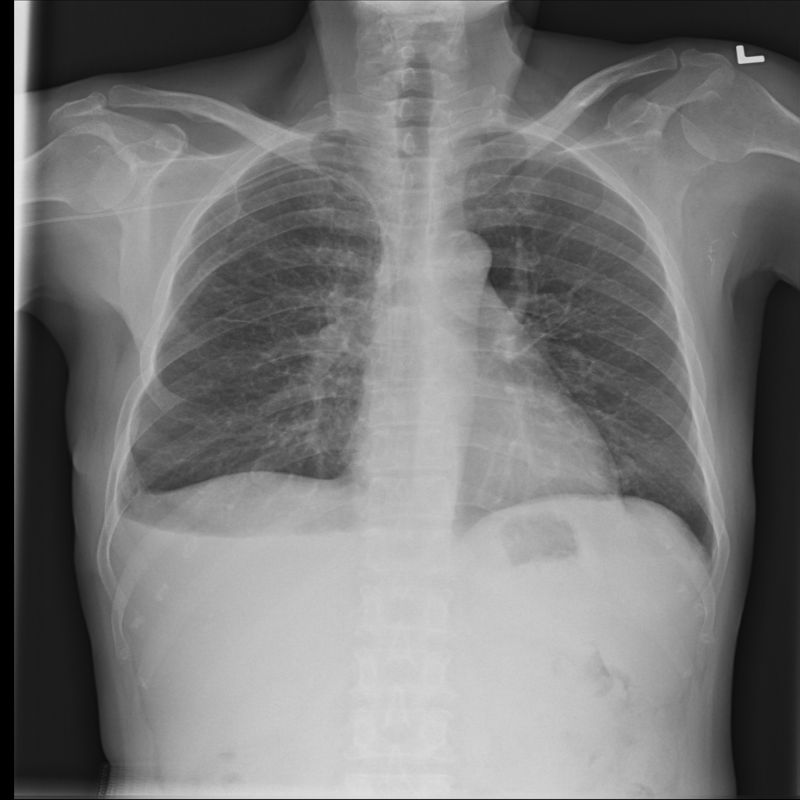Pleural Effusion: (88, 449, 302, 634)
